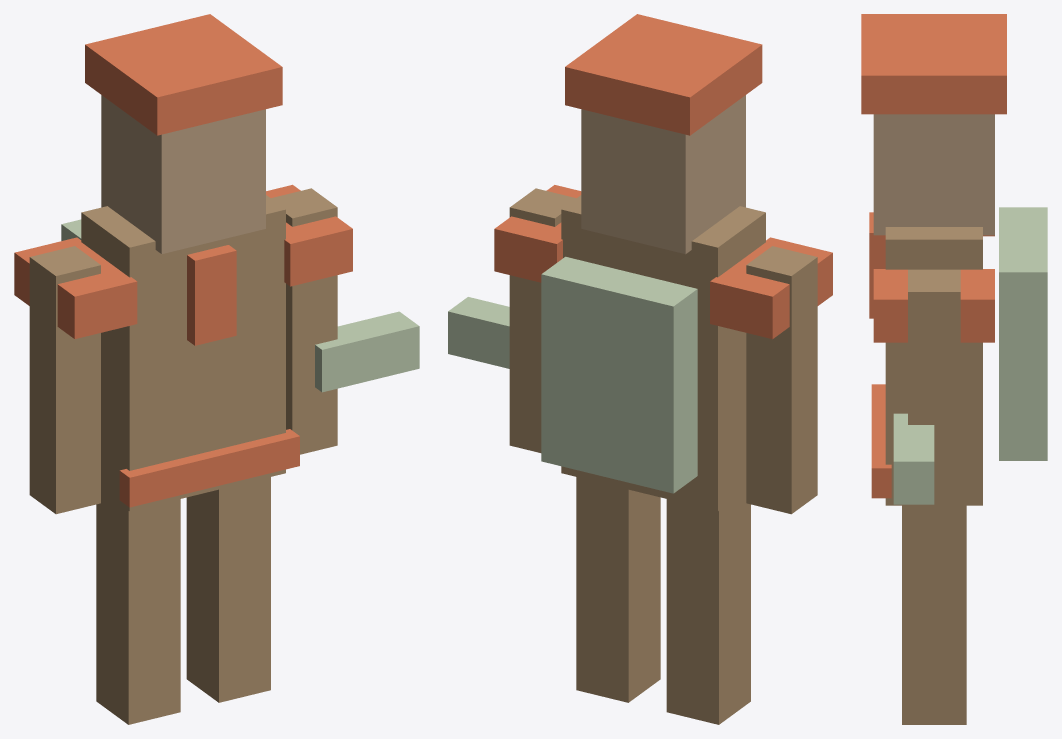
File: 11_soren_glassroot_archivist_under_dormitory.glb
3 views of the same model, side by side, from view 1: azimuth 30°, elevation 25°; view 2: azimuth 150°, elevation 25°; view 3: azimuth 270°, elevation 25° (orthographic).
Parts seen in each view (by area): view 1: Soren Glassroot, Archivist under Dormitory; view 2: Soren Glassroot, Archivist under Dormitory; view 3: Soren Glassroot, Archivist under Dormitory.
Boxes of the visible parts, <box> form: Soren Glassroot, Archivist under Dormitory: <box>14,14,419,724</box>; Soren Glassroot, Archivist under Dormitory: <box>448,14,832,724</box>; Soren Glassroot, Archivist under Dormitory: <box>861,14,1047,724</box>.
Size of the model in its own units: 0.9723 by 1.67 by 0.4364.
